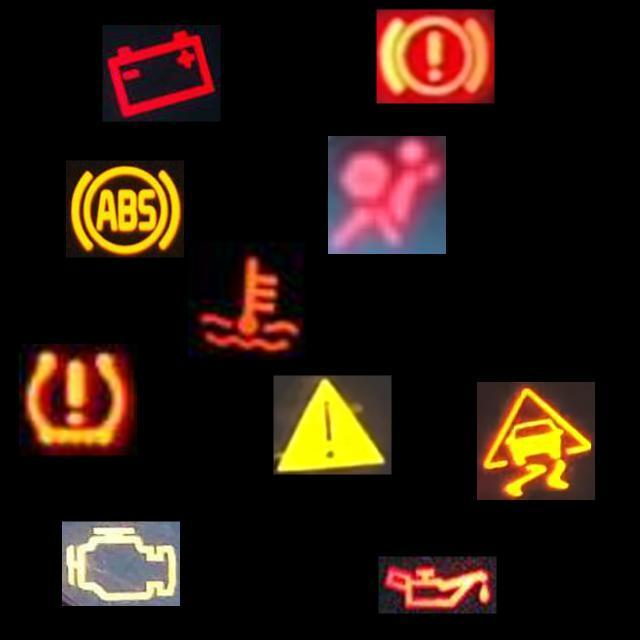Central Warning lamp: (274, 376, 392, 474)
Engine cooling system: (188, 242, 306, 360)
